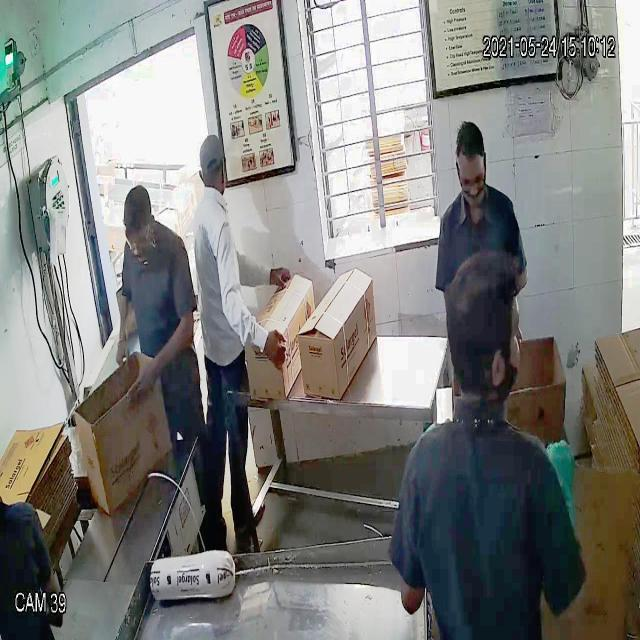glasses: (458, 160, 487, 197)
